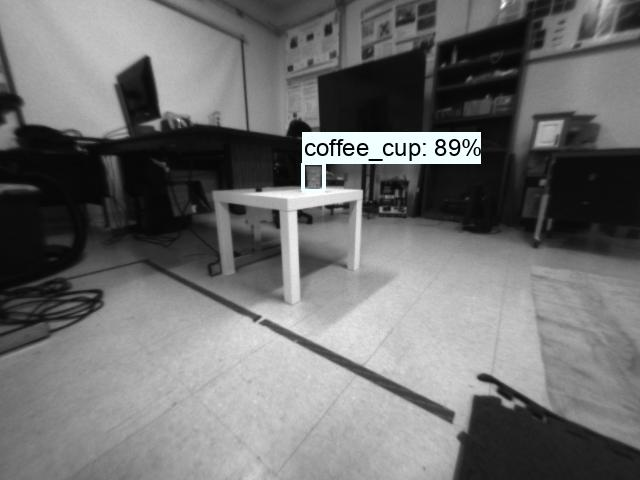coffee_cup: (303, 163, 323, 192)
